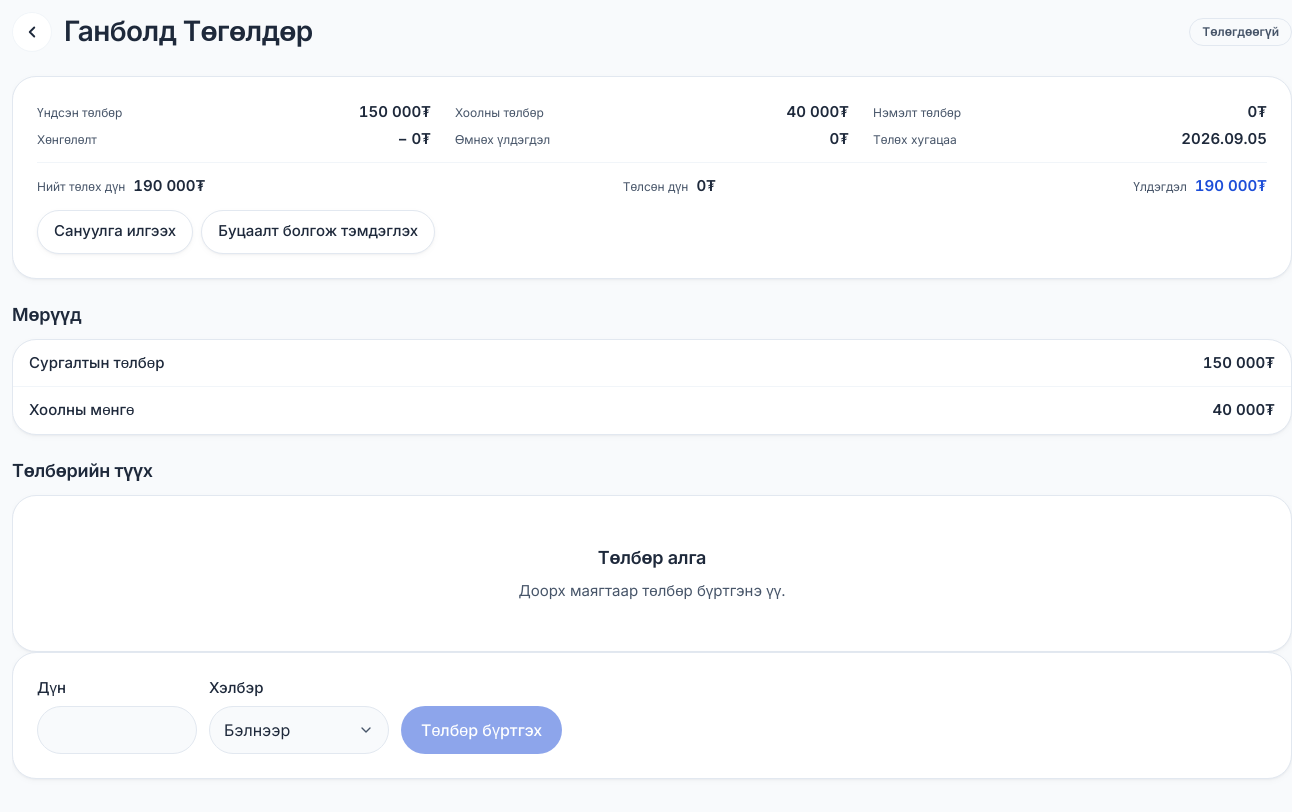
Scenario: an invoice's own page › records a manual payment and shows the invoice the server sends back
Type "190000" into the number field labelled "Дүн".
click(117, 730); type("190000")  # box left=37, top=706, right=197, bottom=754
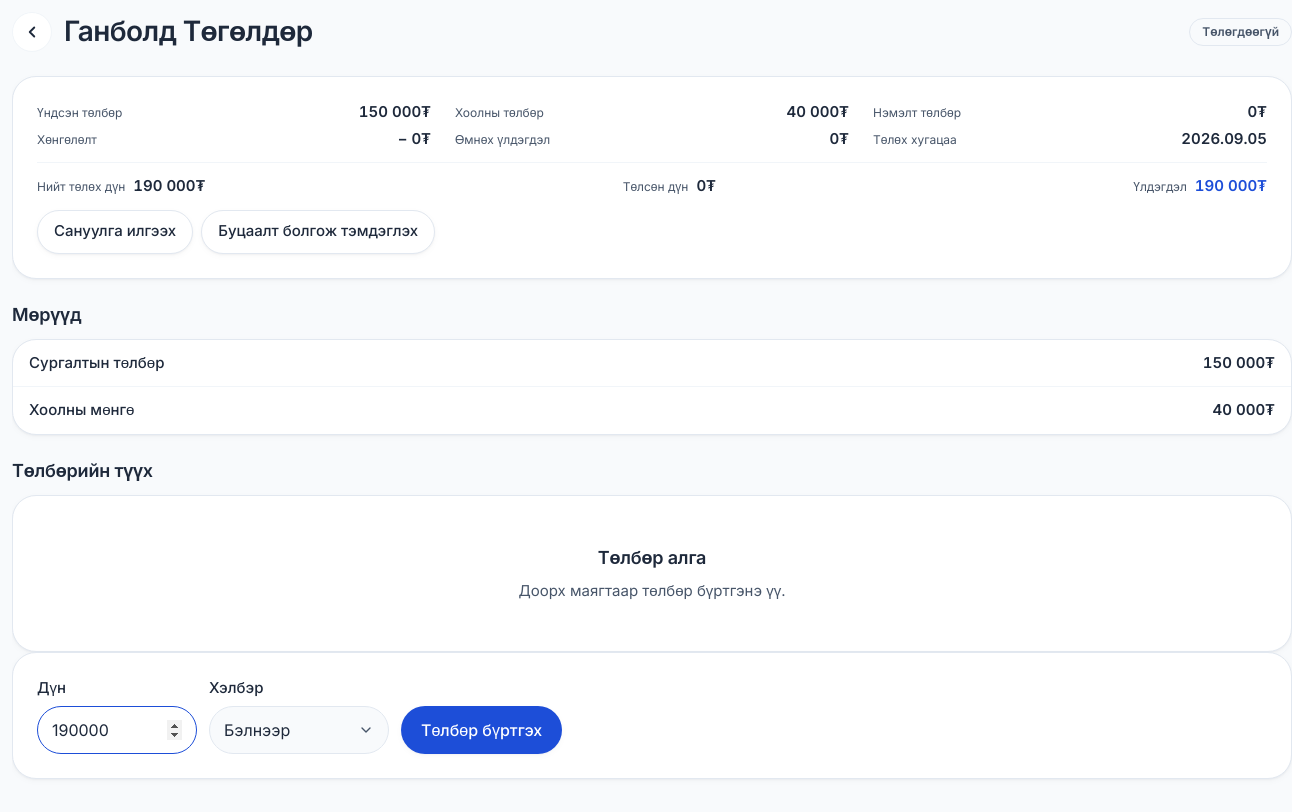
Click the button "Төлбөр бүртгэх".
click(482, 730)  # box left=401, top=706, right=562, bottom=754
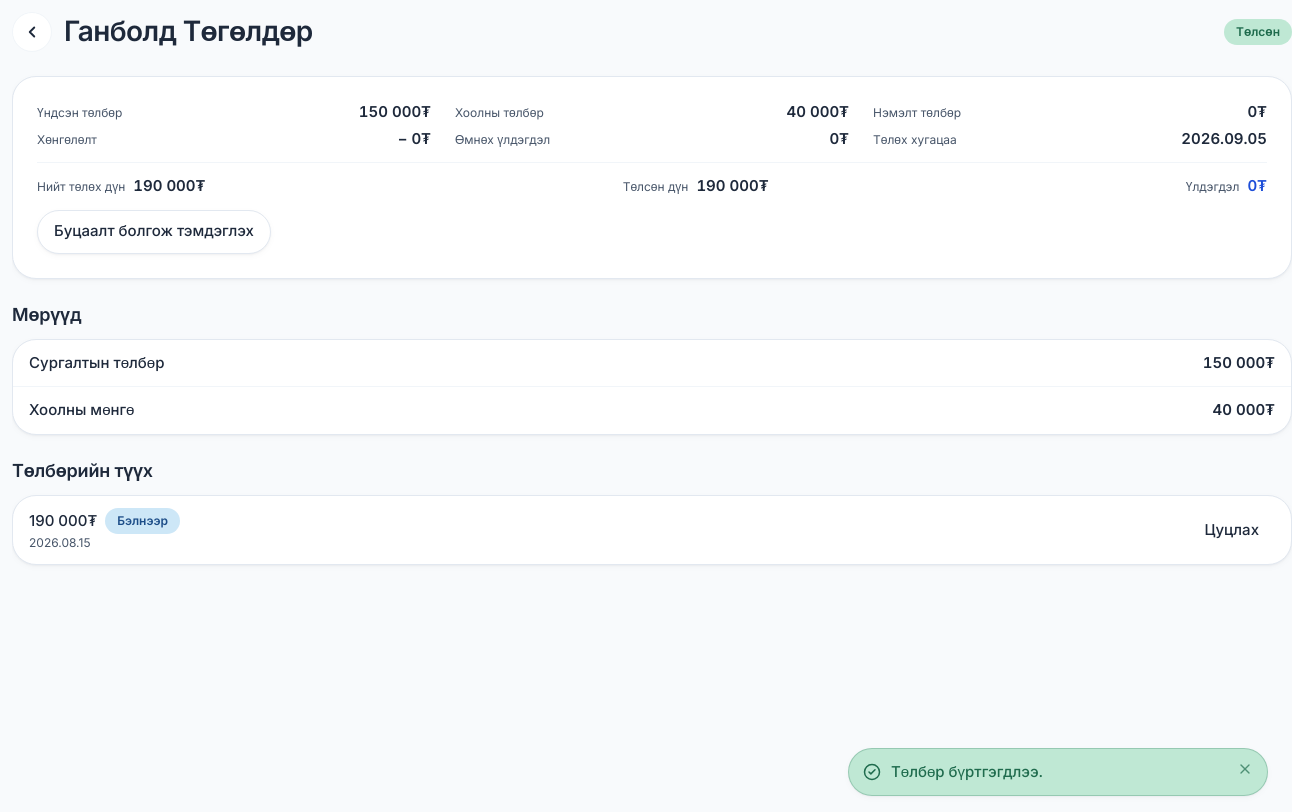
Expected: the text "Төлсөн" is shown, left=1224, top=19, right=1291, bottom=45
